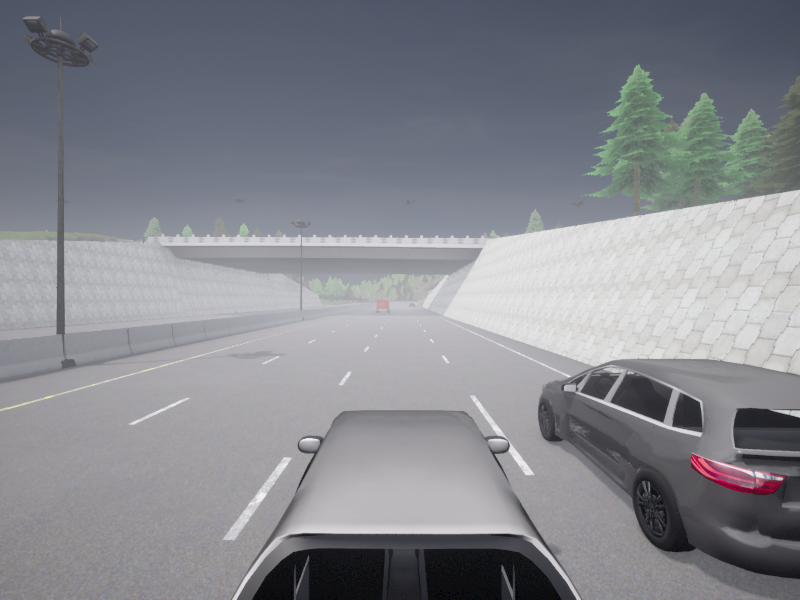vehicle: (231, 410, 582, 599), (538, 359, 799, 578), (376, 300, 389, 312), (409, 303, 414, 306)
